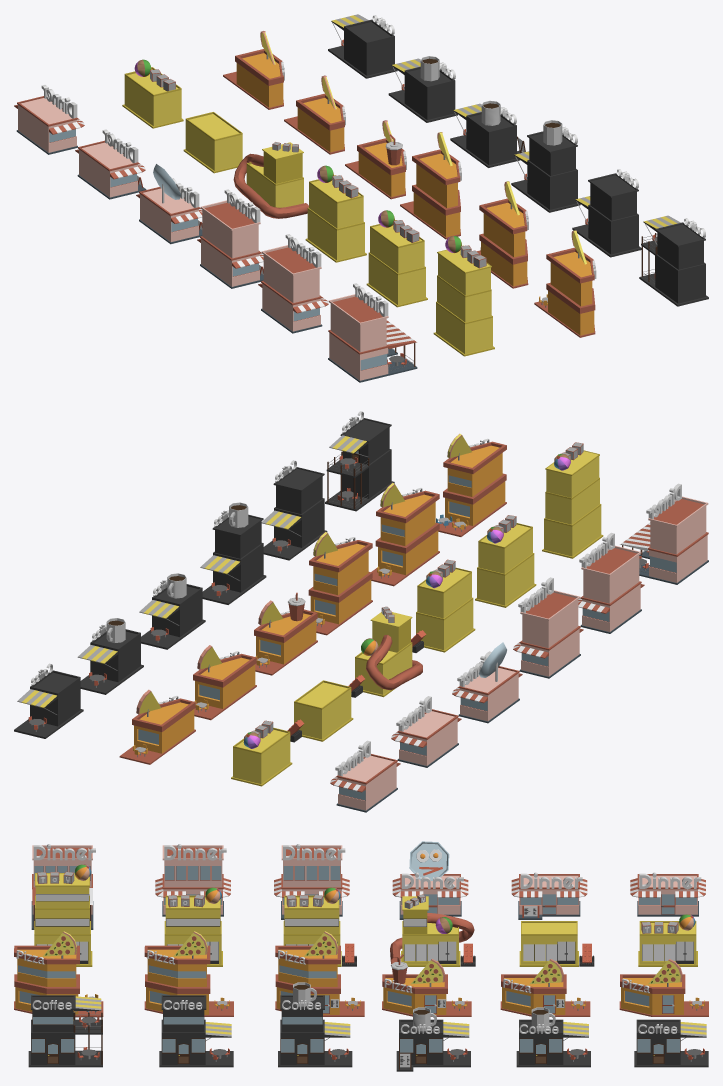
The picture shows the model from 3 angles, top to bottom: view 1: azimuth 30°, elevation 25°; view 2: azimuth 150°, elevation 25°; view 3: azimuth 270°, elevation 25°; orthographic projection. The views are drawn at different scales.
Parts seen in each view (by area): view 1: food shop-pp_148, toy store-pp_160, food shop-mp_146, food shop-p_147, coffe-pp_7, toy store-mp_158, toy store-p_159, coffe-mp_5, toy store-mm_157, coffe-p_6, pizza-pp_149, pizza-mp_151 (+12 smaller); view 2: toy store-pp_160, food shop-pp_148, pizza-pp_149, pizza-p_150, pizza-mp_151, food shop-mp_146, food shop-p_147, coffe-pp_7, coffe-mp_5, toy store-mp_158, coffe-p_6, toy store-p_159 (+12 smaller); view 3: coffe-pp_7, coffe-mp_5, pizza-p_150, toy store-pp_160, toy store-mm_157, coffe-p_6, pizza-mp_151, pizza-pp_149, food shop-mm_145, coffe-mm_4, food shop-mp_146, food shop-p_147 (+12 smaller).
Part boxes in pixels (<box>): food shop-pp_148: <box>328,283,417,382</box>; toy store-pp_160: <box>433,236,494,356</box>; food shop-mp_146: <box>197,189,263,288</box>; food shop-p_147: <box>258,234,328,333</box>; coffe-pp_7: <box>639,215,708,306</box>; toy store-mp_158: <box>305,165,366,262</box>; toy store-p_159: <box>366,210,427,307</box>; coffe-mp_5: <box>511,120,580,212</box>; toy store-mm_157: <box>233,142,308,218</box>; coffe-p_6: <box>572,169,641,257</box>; pizza-pp_149: <box>534,230,596,337</box>; pizza-mp_151: <box>400,132,461,239</box>; toy store-pp_160: <box>542,442,603,558</box>; food shop-pp_148: <box>620,483,708,584</box>; pizza-pp_149: <box>436,433,506,536</box>; pizza-p_150: <box>371,482,439,586</box>; pizza-mp_151: <box>308,532,372,635</box>; food shop-mp_146: <box>513,577,583,678</box>; food shop-p_147: <box>578,532,644,633</box>; coffe-pp_7: <box>325,411,394,511</box>; coffe-mp_5: <box>200,502,266,604</box>; toy store-mp_158: <box>411,559,475,652</box>; coffe-p_6: <box>261,460,327,560</box>; toy store-p_159: <box>475,515,536,607</box>; coffe-pp_7: <box>28,995,102,1067</box>; coffe-mp_5: <box>278,982,352,1067</box>; pizza-p_150: <box>144,931,233,1016</box>; toy store-pp_160: <box>34,864,92,966</box>; toy store-mm_157: <box>390,894,475,966</box>; coffe-p_6: <box>159,995,233,1067</box>; pizza-mp_151: <box>275,931,364,1016</box>; pizza-pp_149: <box>14,931,103,1016</box>; food shop-mm_145: <box>392,841,468,919</box>; coffe-mm_4: <box>396,1007,470,1071</box>; food shop-mp_146: <box>274,844,349,919</box>; food shop-p_147: <box>155,844,230,916</box>.
Bounding box in the file's own units: 33.71 × 8.81 × 58.53.
Materials: 1 (1 with a texture image).
